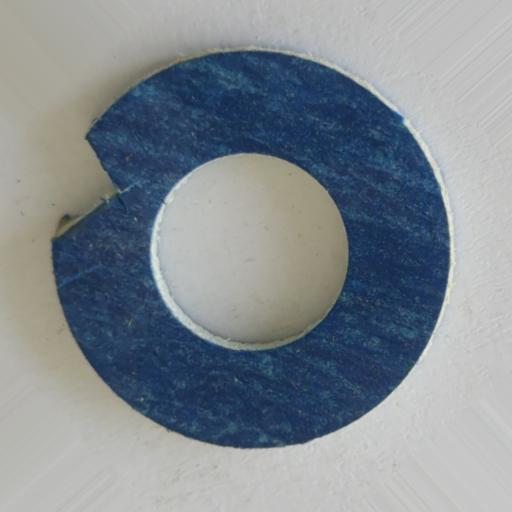defect: (51, 137, 134, 245)
